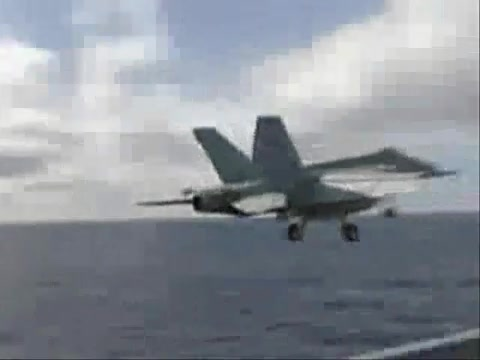aeroplane: (135, 114, 461, 244)
